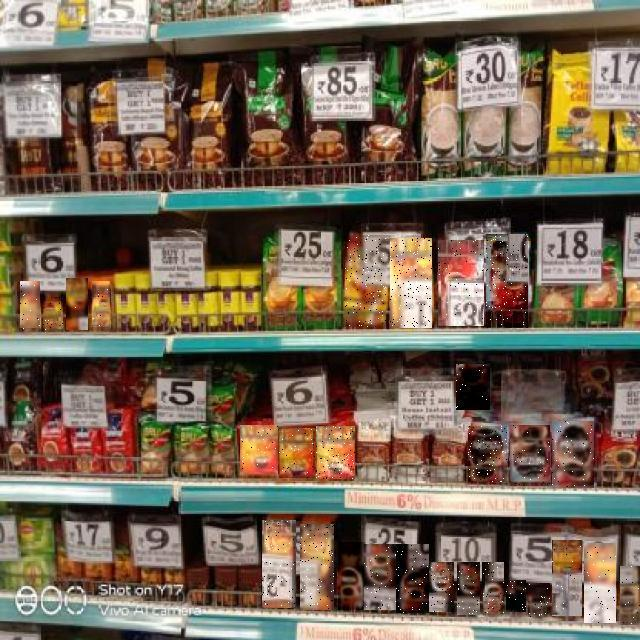Coffee: (439, 240, 485, 326), (486, 234, 528, 328), (390, 238, 432, 328), (345, 235, 386, 327), (262, 520, 296, 608), (300, 525, 334, 611), (552, 421, 594, 488), (584, 543, 616, 623), (510, 426, 550, 486), (552, 541, 582, 617), (396, 544, 429, 613), (468, 426, 507, 482), (364, 544, 396, 610), (316, 426, 355, 479), (240, 426, 278, 478), (338, 542, 365, 610), (279, 428, 315, 478), (456, 364, 490, 410), (429, 563, 454, 613), (457, 562, 480, 615), (620, 566, 640, 625), (482, 563, 504, 615), (66, 279, 88, 331), (20, 282, 40, 330), (42, 290, 64, 332), (92, 282, 110, 330), (528, 583, 550, 617), (506, 580, 526, 612)
